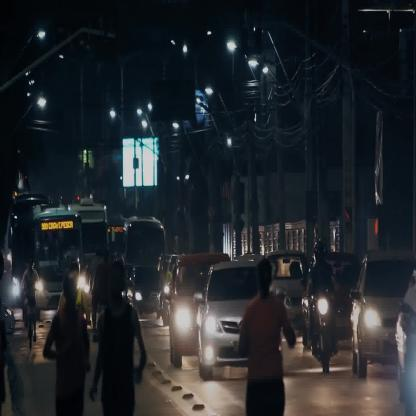bus: (27, 211, 84, 308)
car: (194, 262, 266, 383), (349, 251, 416, 377), (167, 253, 230, 368)
motorcycle: (310, 242, 336, 374), (21, 258, 40, 349)
